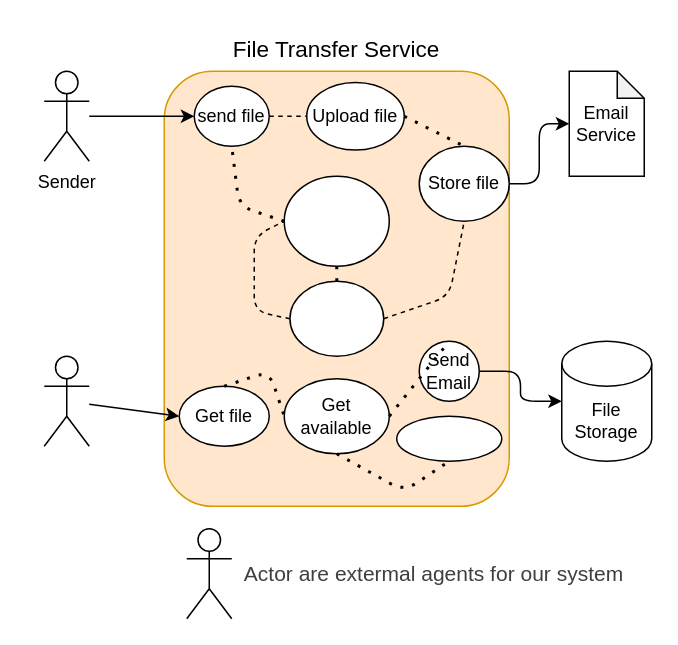
The diagram is 678 pixels wide and 645 high, and some of its shapes have lost their labels. The shapes that lost their labels are listed below. From the top down, each one's centre as x and y in pixels, then its label:
At point 336,220: "Specify recepient".
At point 336,318: "Save file recepient".
At point 66,400: "Recepient".
At point 448,438: "Get file list".
